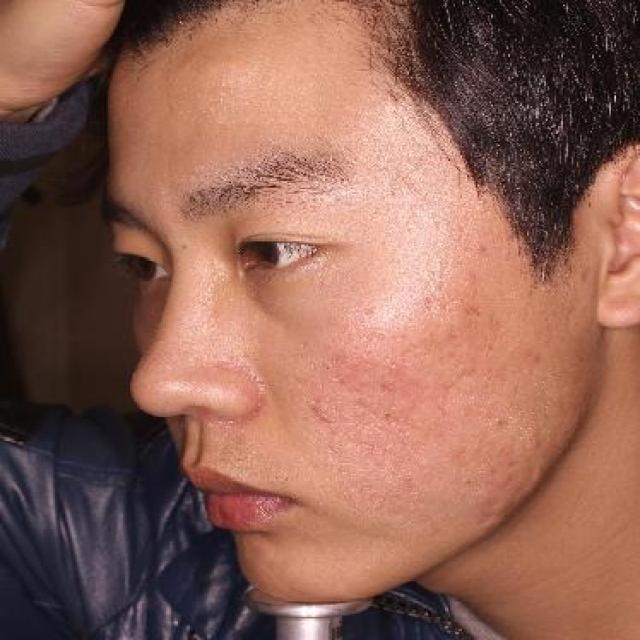blackheads: (493, 414, 515, 431), (382, 409, 395, 426)
dark spot: (373, 375, 400, 394), (502, 452, 524, 471), (464, 303, 489, 319), (316, 412, 338, 428), (303, 400, 327, 414), (529, 349, 546, 365), (395, 471, 416, 483), (404, 484, 419, 496)
